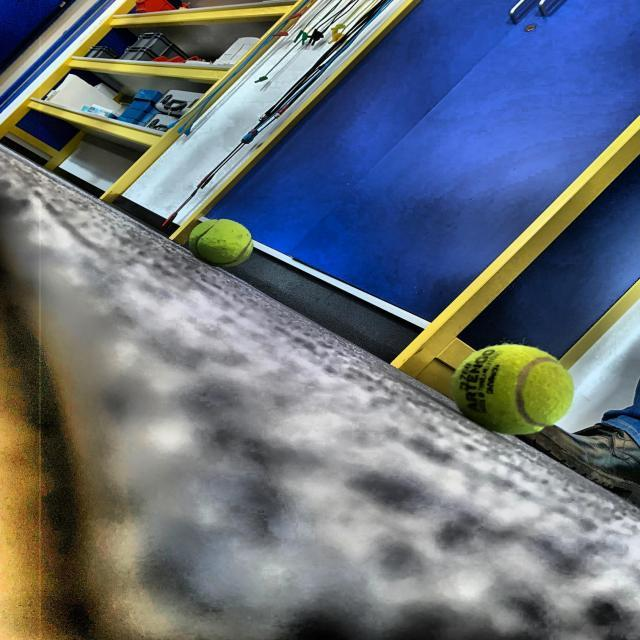tennis-ball: (458, 341, 568, 443), (186, 214, 258, 276)
